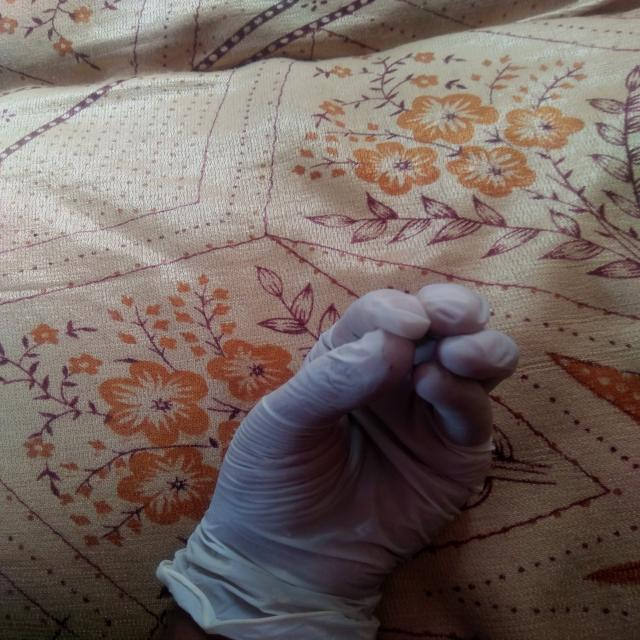glove: (156, 277, 526, 636)
